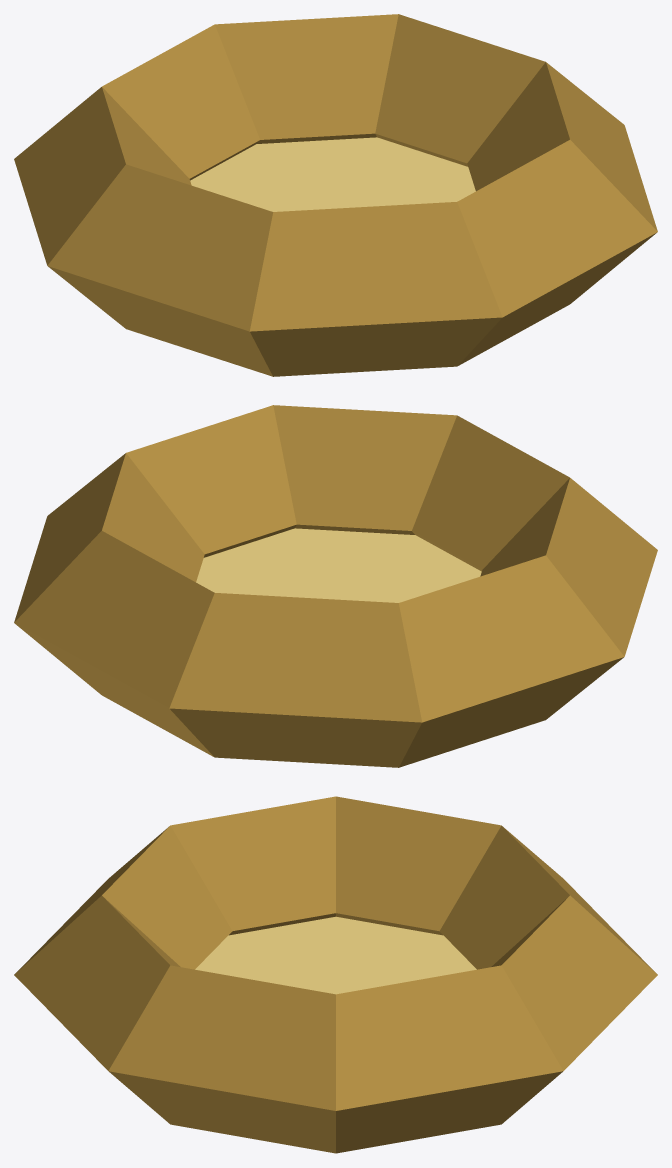
File: nest.glb
The picture shows the model from 3 angles, top to bottom: view 1: azimuth 30°, elevation 25°; view 2: azimuth 150°, elevation 25°; view 3: azimuth 270°, elevation 25°; orthographic projection. The views are drawn at different scales.
Visible parts, largest first — view 1: nest_plain, nest_fabric; view 2: nest_plain, nest_fabric; view 3: nest_plain, nest_fabric.
Part boxes in pixels (x1,y1,x2,y2): nest_plain: (14, 14, 657, 376); nest_fabric: (190, 137, 475, 211); nest_plain: (14, 405, 657, 767); nest_fabric: (196, 528, 481, 602); nest_plain: (14, 796, 657, 1153); nest_fabric: (195, 916, 476, 994).
Bounding box in the file's own units: 0.88 × 0.24 × 0.88.
